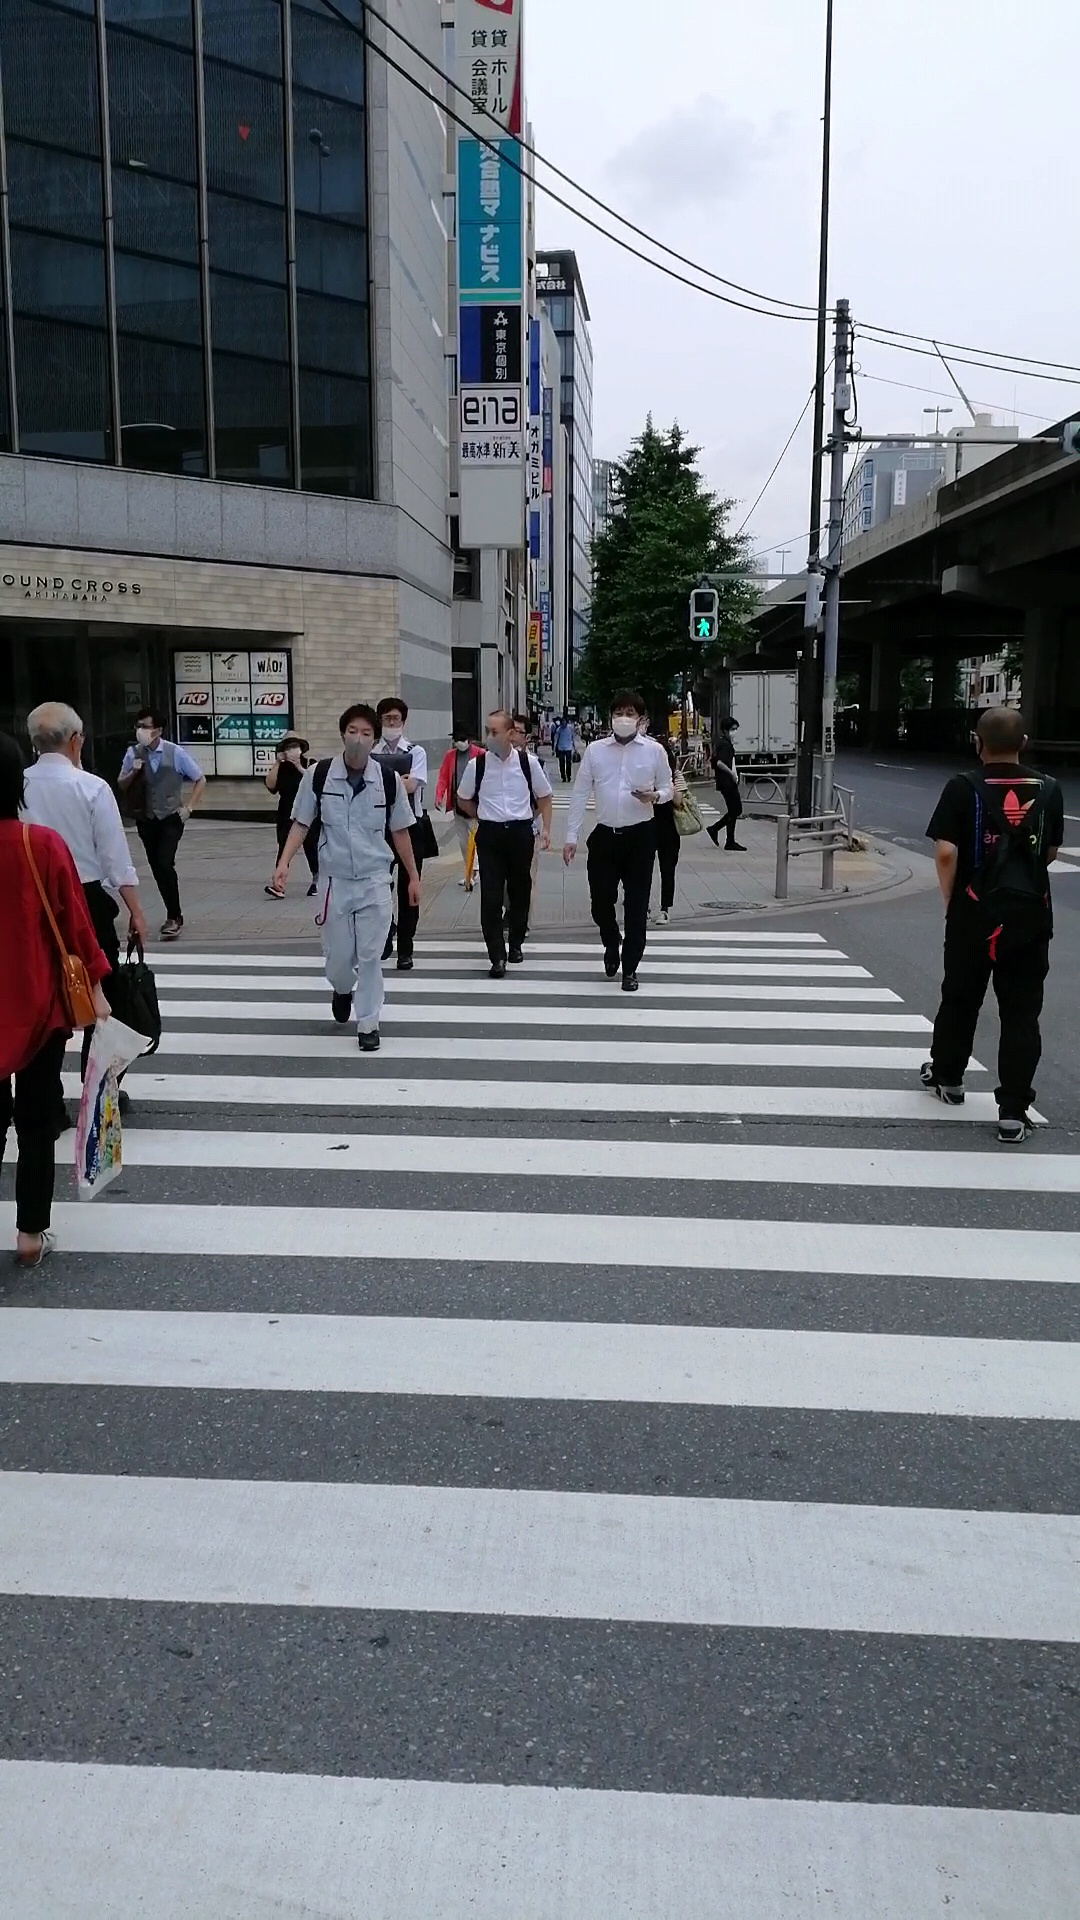green: (688, 588, 717, 640)
